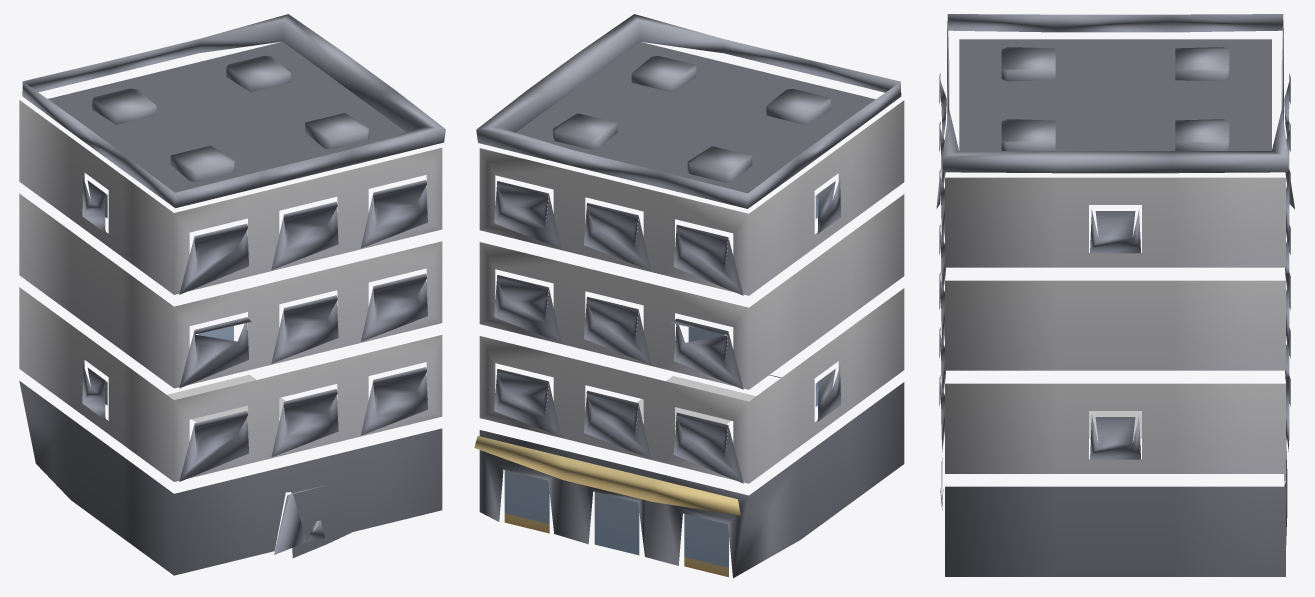
3 renders of one model, left to right at view 1: azimuth 30°, elevation 25°; view 2: azimuth 150°, elevation 25°; view 3: azimuth 270°, elevation 25°, orthographic. The views are drawn at different scales.
Size of the model in its own units: 9.89 by 13.44 by 10.25.
